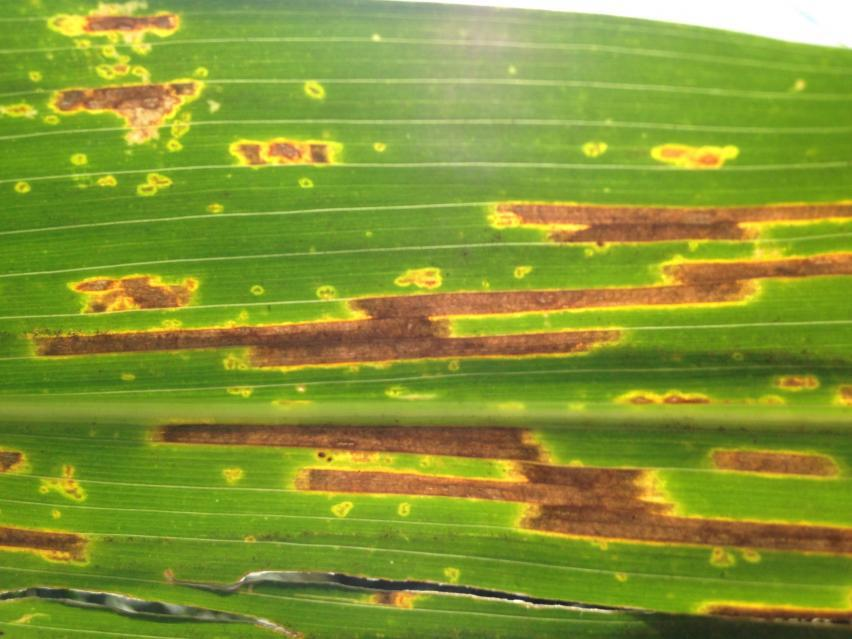Corn Gray leaf spot: (1, 1, 852, 639)
